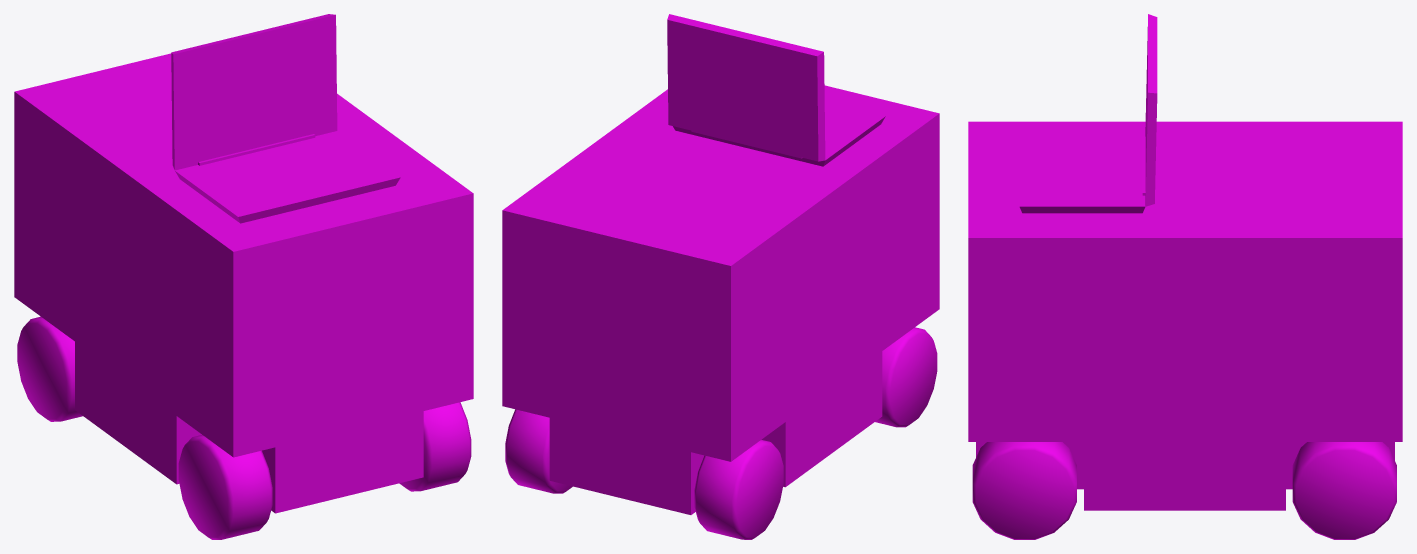
Rendered from Wagon_Small.fbx.
3 renders of one model, left to right at view 1: azimuth 30°, elevation 25°; view 2: azimuth 150°, elevation 25°; view 3: azimuth 270°, elevation 25°, orthographic. The views are drawn at different scales.
Parts seen in each view (by area): view 1: Wagon_Small; view 2: Wagon_Small; view 3: Wagon_Small.
Boxes of the visible parts, box(x1,y1,x2,y2) form: Wagon_Small: box(14, 14, 473, 539); Wagon_Small: box(502, 14, 939, 539); Wagon_Small: box(968, 14, 1402, 539).
Bounding box in the file's own units: 49.73 × 83.21 × 76.96.
